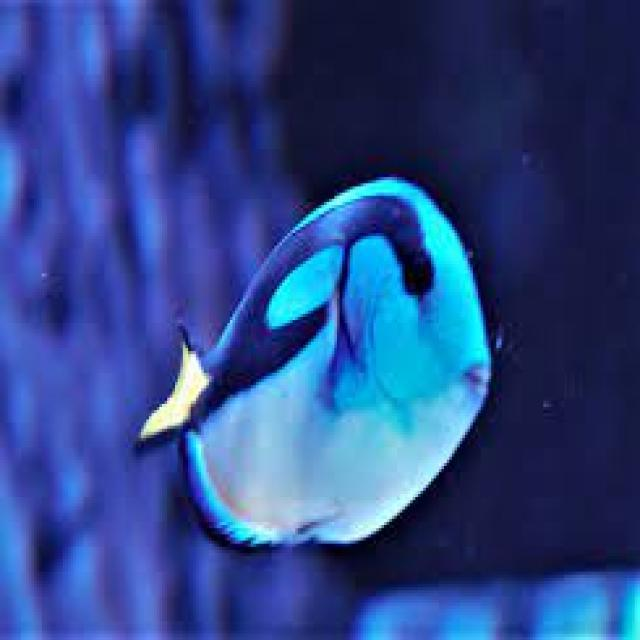TangFish: (133, 173, 491, 553)
